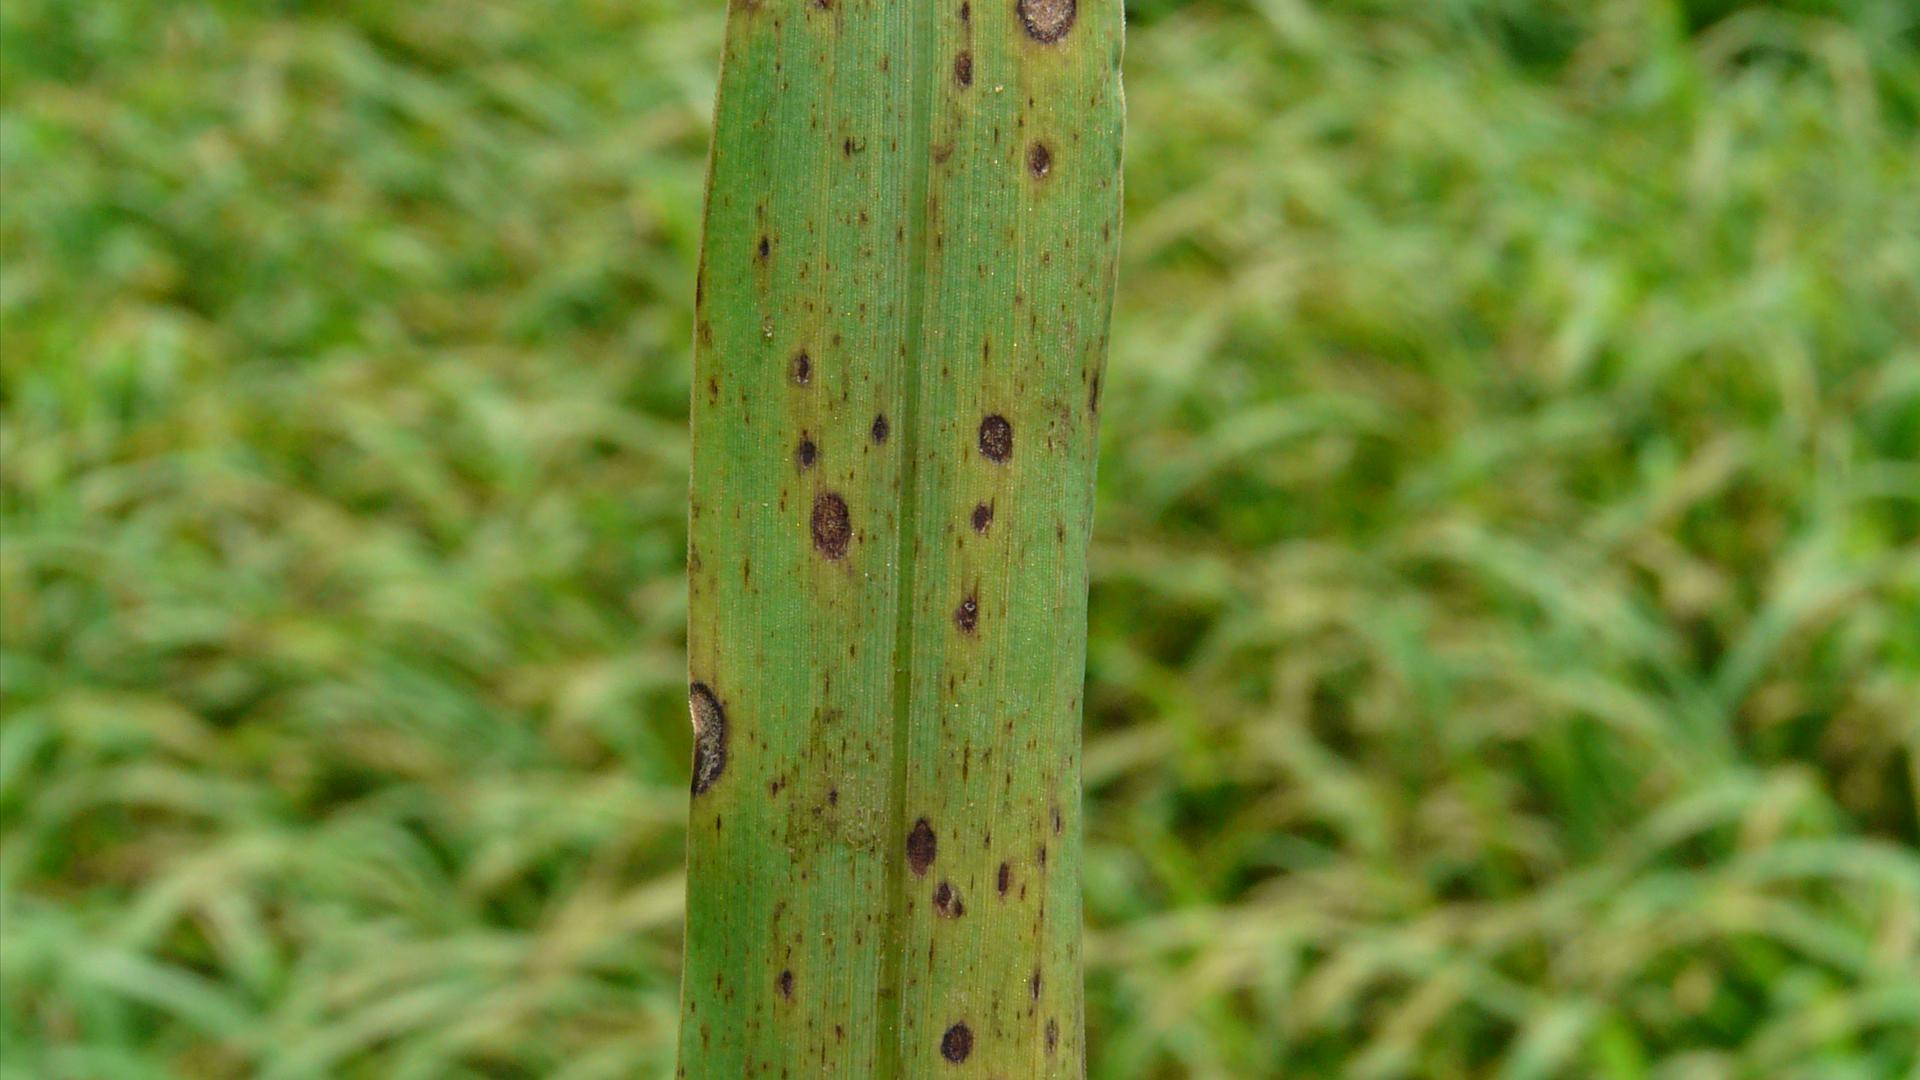Bercak Coklat: (786, 469, 868, 576), (955, 386, 1035, 479), (1002, 121, 1087, 208), (939, 485, 1033, 558), (876, 796, 949, 880), (766, 400, 837, 485), (931, 566, 1009, 644), (851, 378, 909, 473), (923, 1000, 982, 1068), (770, 332, 829, 389)
